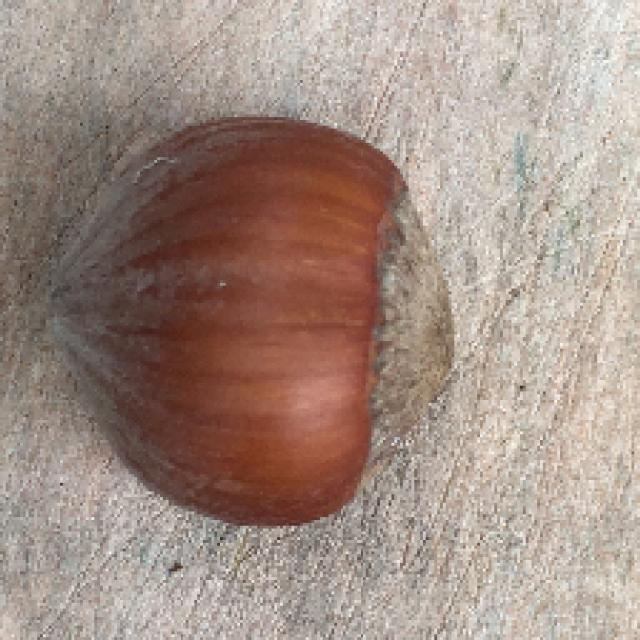qualityHazelnut: (38, 110, 462, 522)
